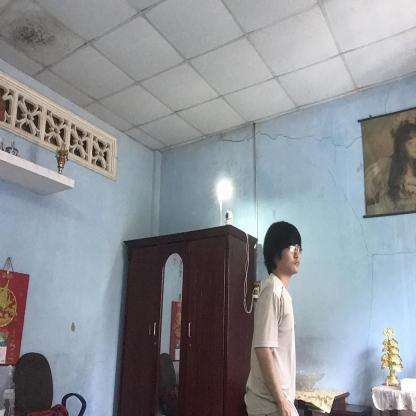person: (244, 221, 308, 416)
